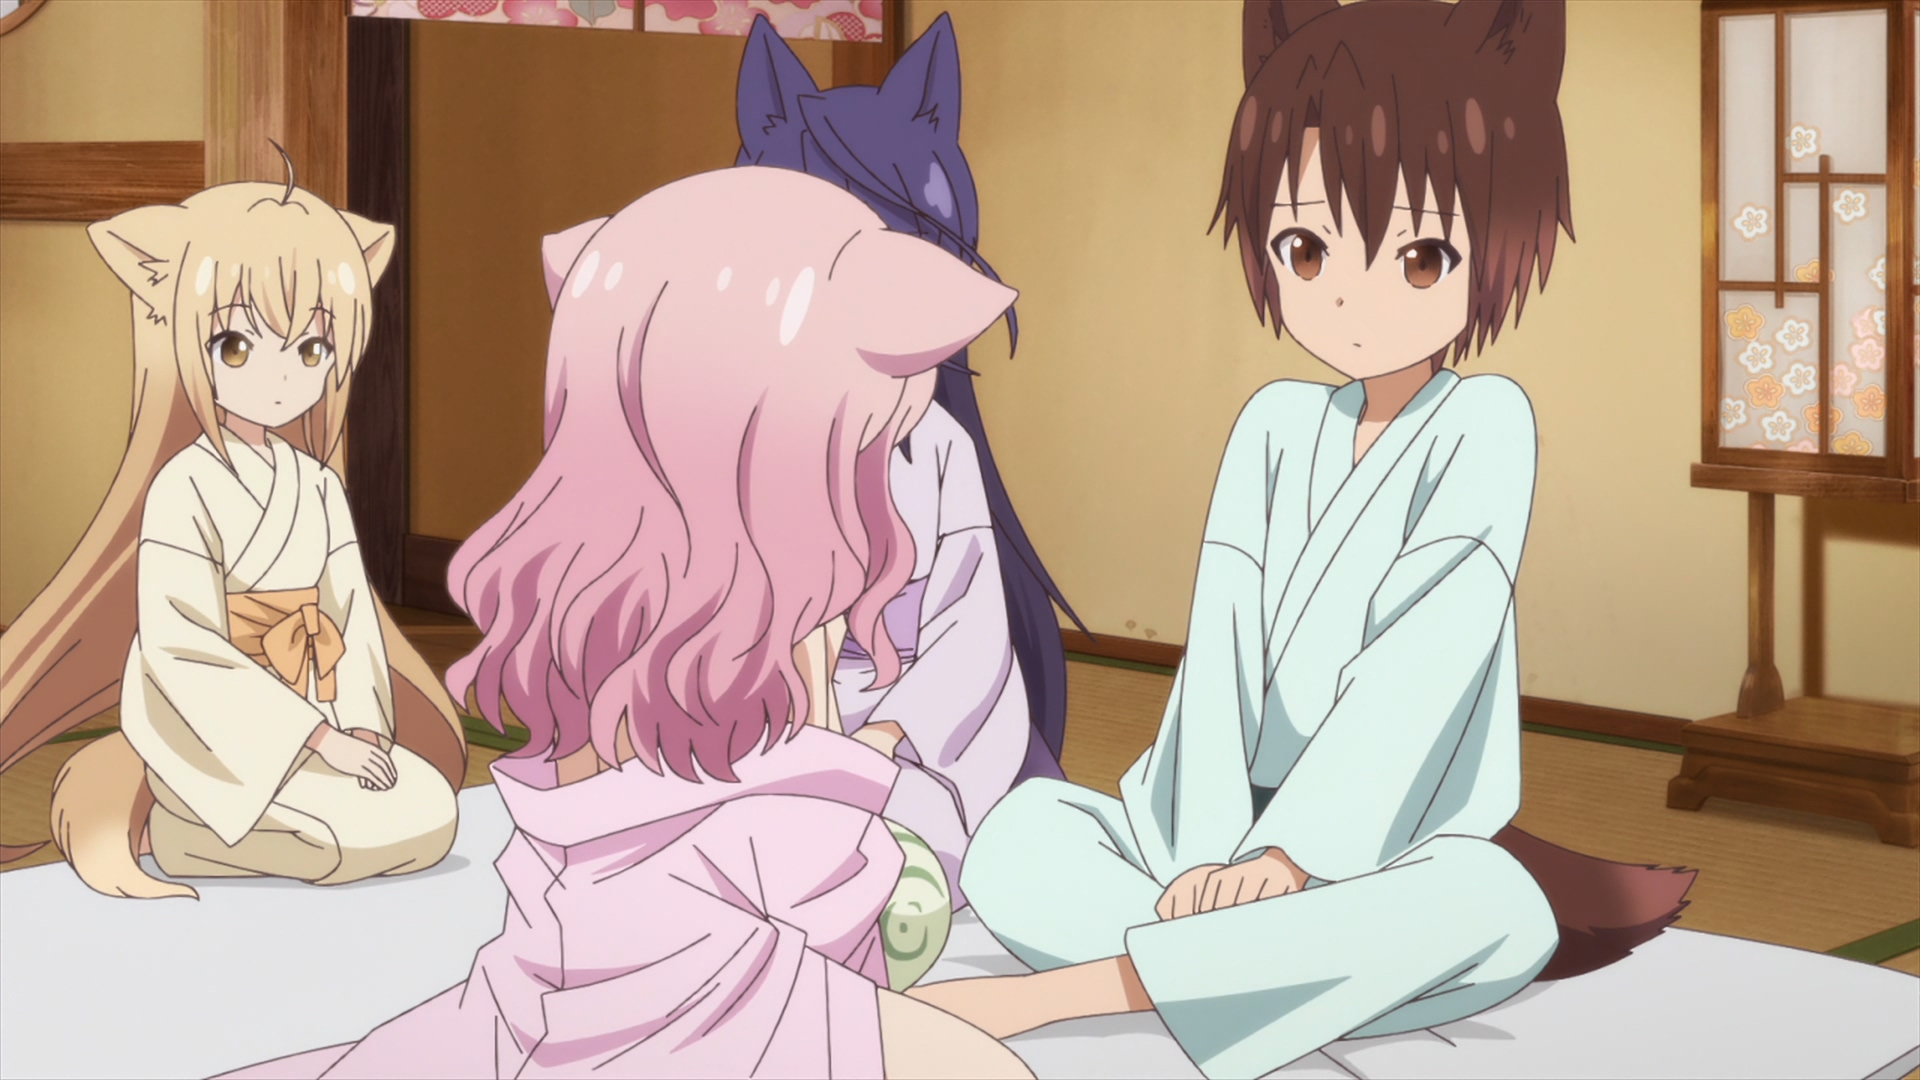枣: (905, 1, 1701, 1080)
柚: (1, 136, 469, 899)
皋: (732, 13, 1098, 915)
莲: (218, 164, 1036, 1080)
